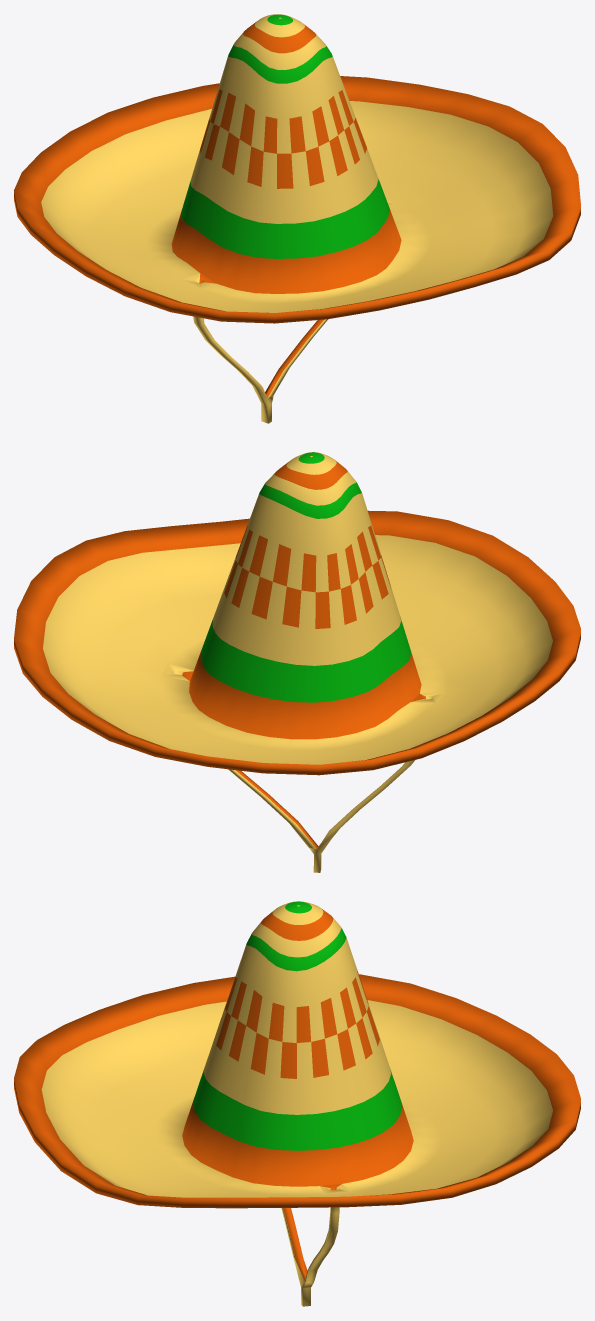
The model's file is sombrero.glb.
3 views of the same model, one above another, from view 1: azimuth 30°, elevation 25°; view 2: azimuth 150°, elevation 25°; view 3: azimuth 270°, elevation 25° (orthographic).
Visible parts, largest first — view 1: Cylinder; view 2: Cylinder; view 3: Cylinder.
Part boxes in pixels (<box>): Cylinder: <box>14,14,580,423</box>; Cylinder: <box>14,452,580,872</box>; Cylinder: <box>14,901,580,1306</box>.
Size of the model in its own units: 2.68 by 2.15 by 2.74.
